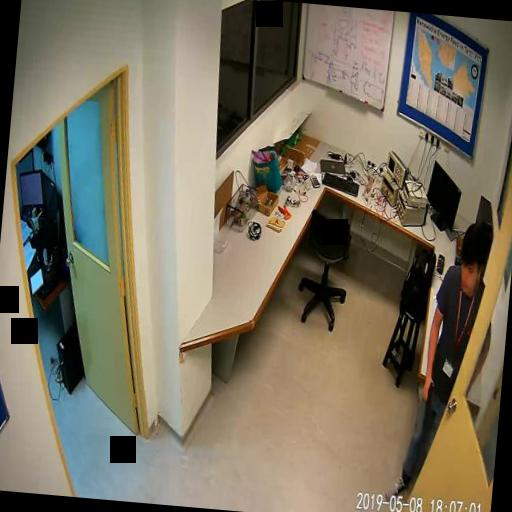Handgun: (418, 375, 434, 431)
